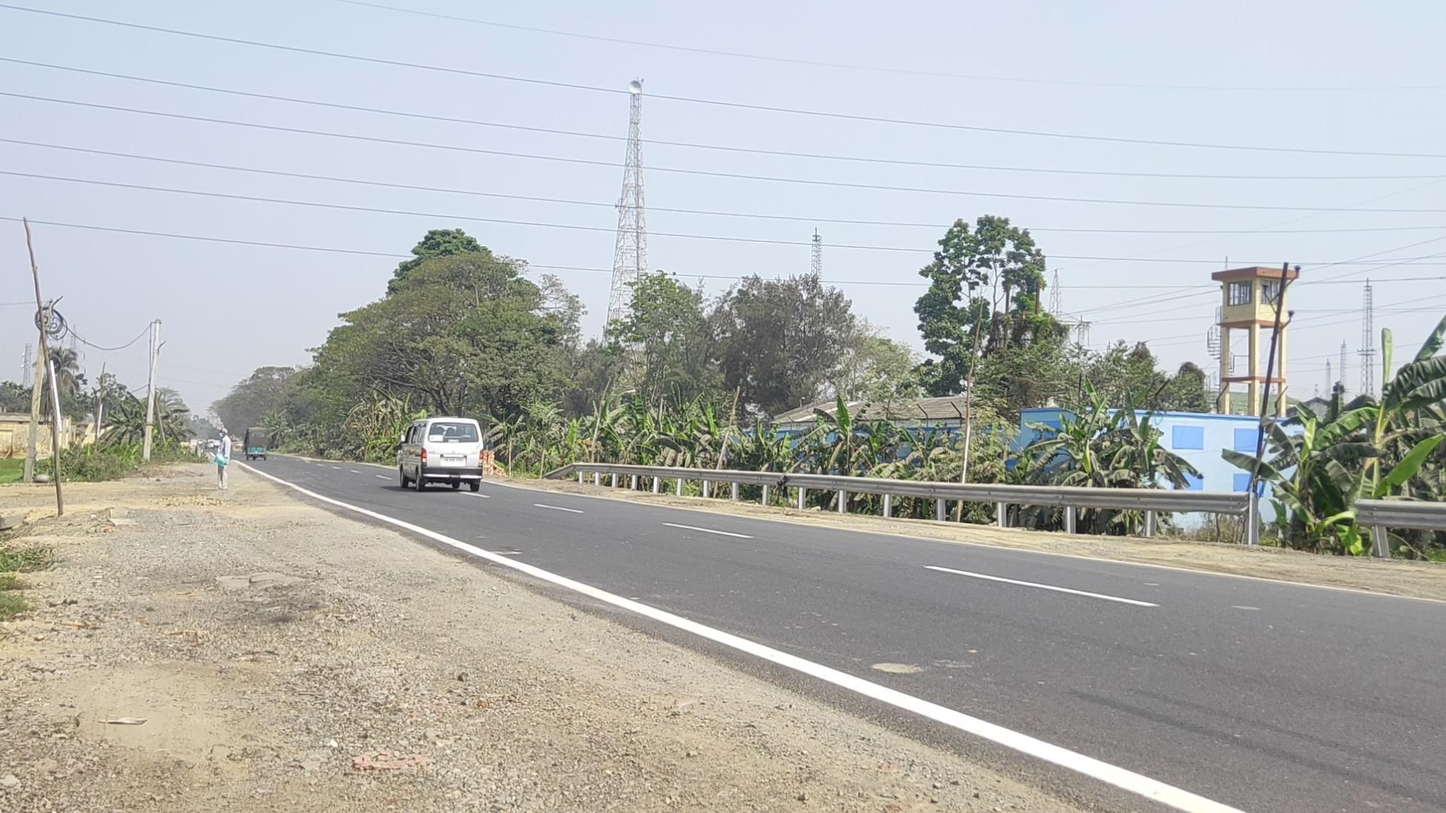Auto: (244, 427, 268, 461)
van: (398, 417, 485, 492)
